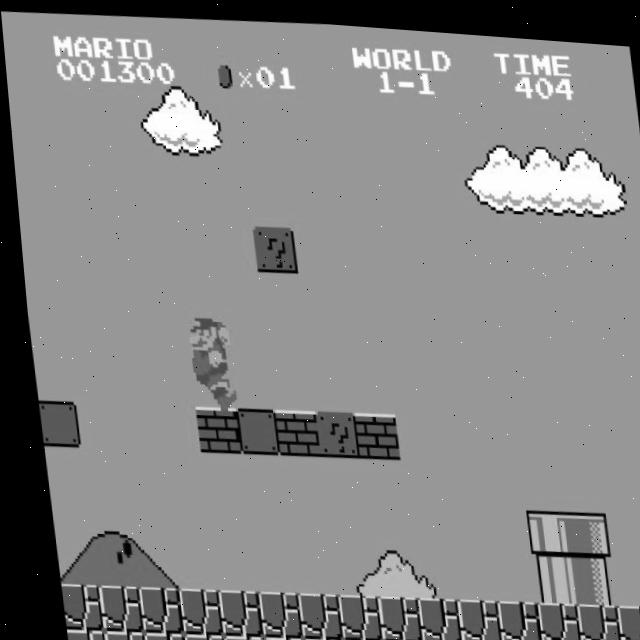0- big_mario: (178, 311, 231, 409)
1- brick_block: (266, 404, 313, 453), (187, 402, 233, 452), (346, 406, 392, 456)
13- mystery_block: (248, 221, 294, 270), (306, 405, 352, 454)
14- pipe: (520, 547, 567, 596), (560, 548, 606, 598)
15- pipe_head: (516, 501, 562, 551), (556, 502, 602, 552)
17- undestructible_block: (325, 588, 372, 638), (405, 590, 452, 640), (365, 589, 412, 638), (126, 583, 172, 633), (166, 584, 212, 634), (246, 586, 292, 636), (286, 587, 332, 637), (86, 583, 132, 632), (206, 586, 252, 635), (445, 591, 491, 640), (485, 592, 531, 640), (525, 593, 571, 640), (565, 594, 611, 640), (50, 582, 92, 631), (605, 595, 640, 640), (91, 628, 134, 640), (170, 629, 214, 640), (131, 629, 174, 640), (54, 628, 93, 640), (210, 631, 254, 640), (250, 632, 294, 640), (290, 632, 334, 640), (330, 634, 374, 640), (371, 635, 414, 640), (410, 636, 454, 640), (450, 637, 494, 640), (490, 638, 533, 640), (530, 638, 573, 640), (570, 639, 613, 640)
3- empty_block: (227, 403, 273, 453), (30, 399, 73, 448)
